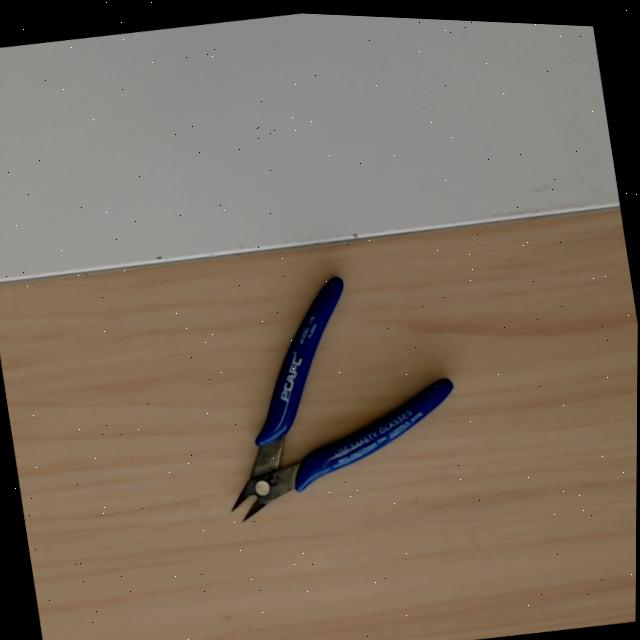Tang-Potong-Biru: (166, 272, 456, 565)
